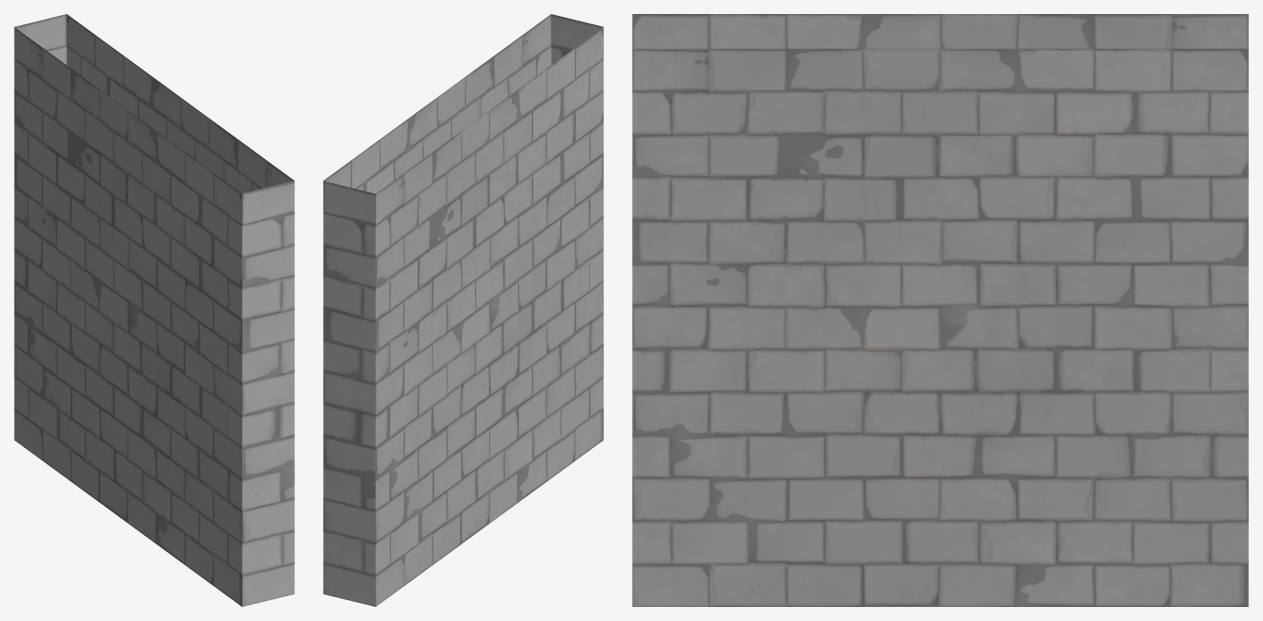
Rendered from Wall3X3_Prototype.fbx.
3 views of the same model, side by side, from view 1: azimuth 30°, elevation 25°; view 2: azimuth 150°, elevation 25°; view 3: azimuth 270°, elevation 25° (orthographic). The views are drawn at different scales.
Visible parts, largest first — view 1: Mat_Tile_BrickWall01 4; view 2: Mat_Tile_BrickWall01 4; view 3: Mat_Tile_BrickWall01 4.
Boxes of the visible parts, x1,y1,x2,y2 form: Mat_Tile_BrickWall01 4: (14, 14, 294, 606); Mat_Tile_BrickWall01 4: (323, 14, 603, 606); Mat_Tile_BrickWall01 4: (632, 14, 1248, 606).
Bounding box in the file's own units: 0.4 × 3 × 3.
Materials: 1 (1 with a texture image).
